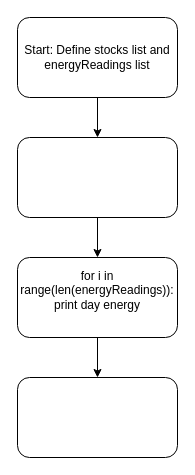
This 195x475 diagram has some shape labels left out. Each missing label, with the centre of its shape:
"End : Iteration output in terminal" goes at point 97,417.
"for stock in stocks: print check" goes at point 97,177.
